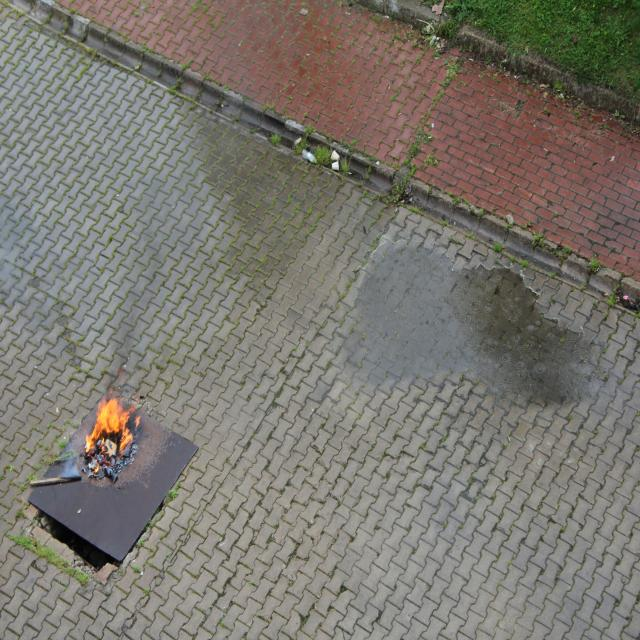fire: (83, 390, 139, 463)
